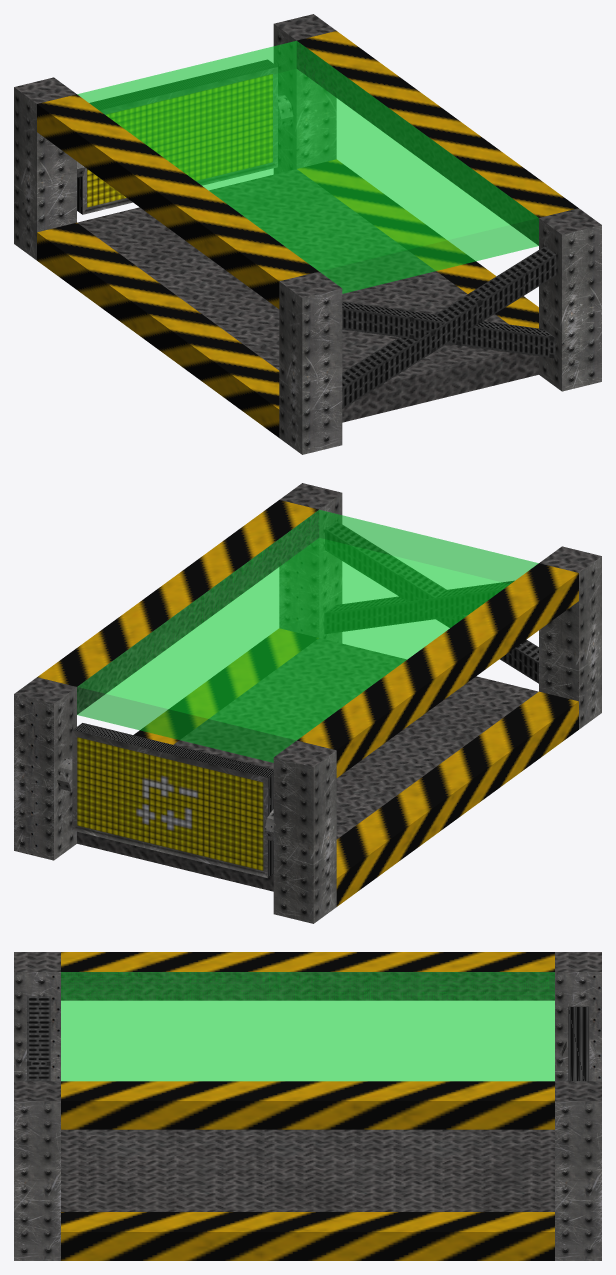
The model's file is Reverse_Magn.fbx.
The picture shows the model from 3 angles, top to bottom: view 1: azimuth 30°, elevation 25°; view 2: azimuth 150°, elevation 25°; view 3: azimuth 270°, elevation 25°; orthographic projection.
Parts seen in each view (by area): view 1: Reverse_Magn, Plateform, Screen_Reverse_Magn; view 2: Reverse_Magn, Plateform, Screen_Reverse_Magn; view 3: Reverse_Magn, Plateform, Screen_Reverse_Magn.
Part boxes in pixels (x1=…): Reverse_Magn: x1=14, y1=14, x2=601, y2=454; Plateform: x1=77, y1=41, x2=538, y2=293; Screen_Reverse_Magn: x1=77, y1=59, x2=277, y2=214; Reverse_Magn: x1=14, y1=483, x2=601, y2=923; Plateform: x1=77, y1=509, x2=538, y2=762; Screen_Reverse_Magn: x1=72, y1=723, x2=273, y2=877; Reverse_Magn: x1=14, y1=952, x2=601, y2=1260; Plateform: x1=61, y1=972, x2=554, y2=1081; Screen_Reverse_Magn: x1=568, y1=1006, x2=589, y2=1081.
Size of the model in its own units: 3 by 1.5 by 5.
